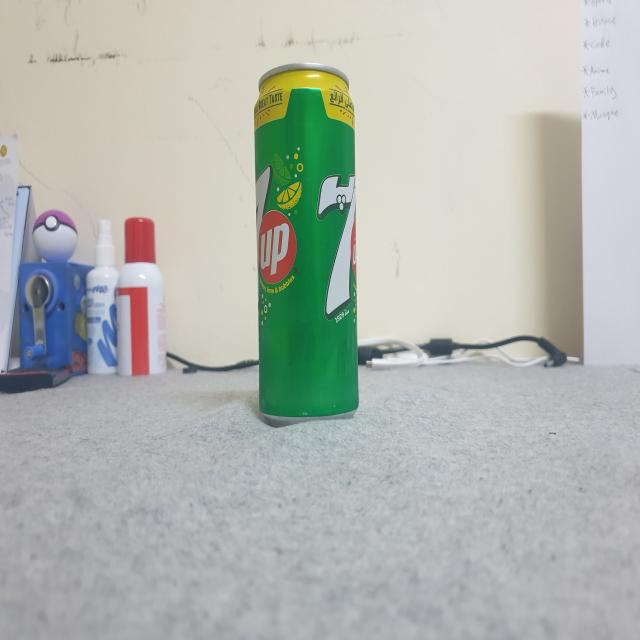non-organic waste: (246, 50, 368, 438)
